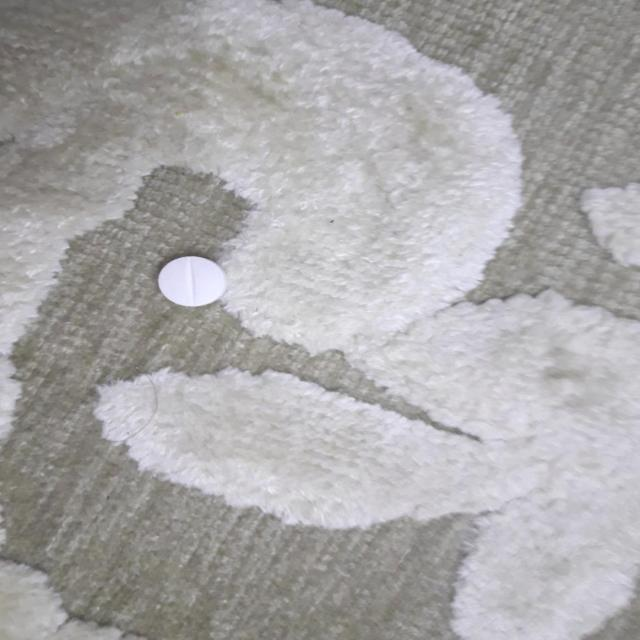pill: (152, 250, 234, 314)
